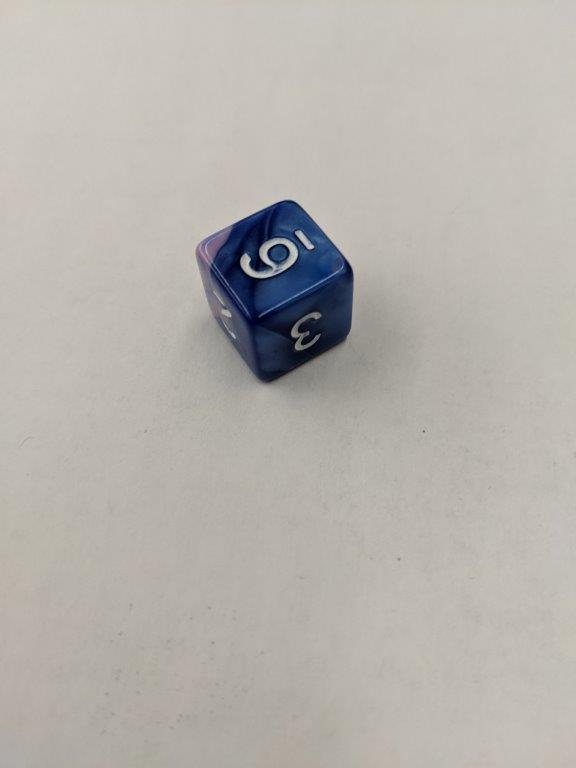d6-6: (197, 199, 354, 384)
